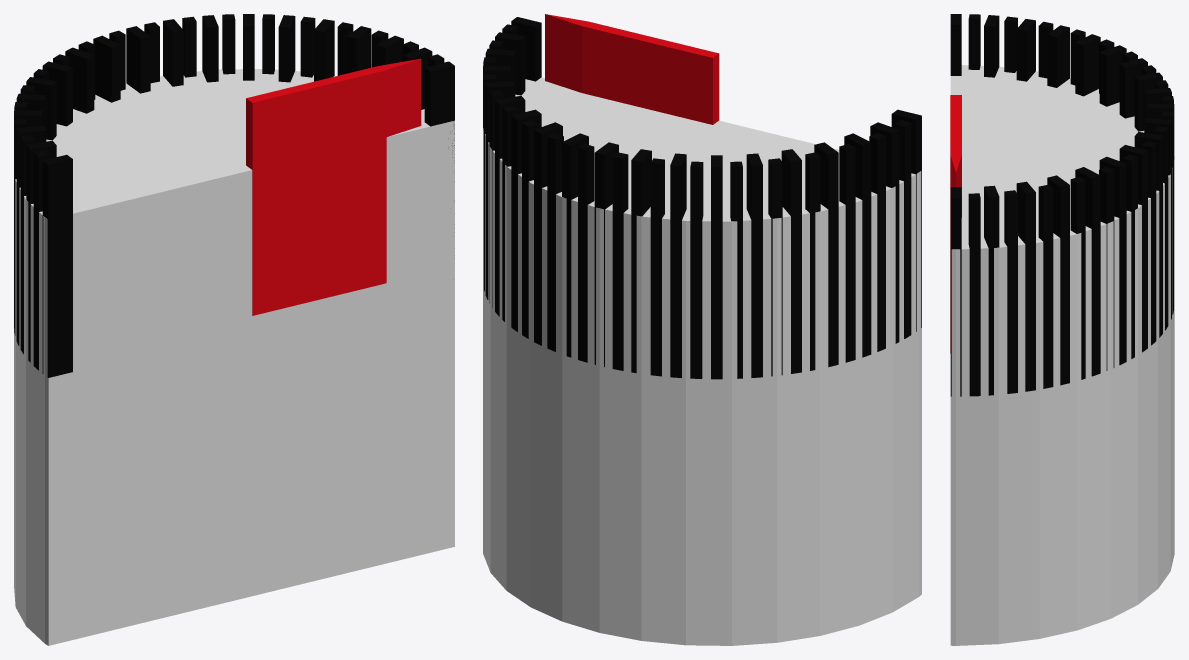
Rendered from Speedometer.glb.
The picture shows the model from 3 angles, left to right: view 1: azimuth 30°, elevation 25°; view 2: azimuth 150°, elevation 25°; view 3: azimuth 270°, elevation 25°; orthographic projection. The views are drawn at different scales.
Parts seen in each view (by area): view 1: Base, Pointer; view 2: Base, Pointer; view 3: Base, Pointer.
Part boxes in pixels (x1,y1,x2,y2): Base: [14, 14, 454, 645]; Pointer: [246, 58, 421, 315]; Base: [483, 17, 921, 645]; Pointer: [545, 14, 719, 124]; Base: [950, 14, 1174, 645]; Pointer: [950, 95, 961, 353].
Size of the model in its own units: 4 by 4.63 by 2.05.
